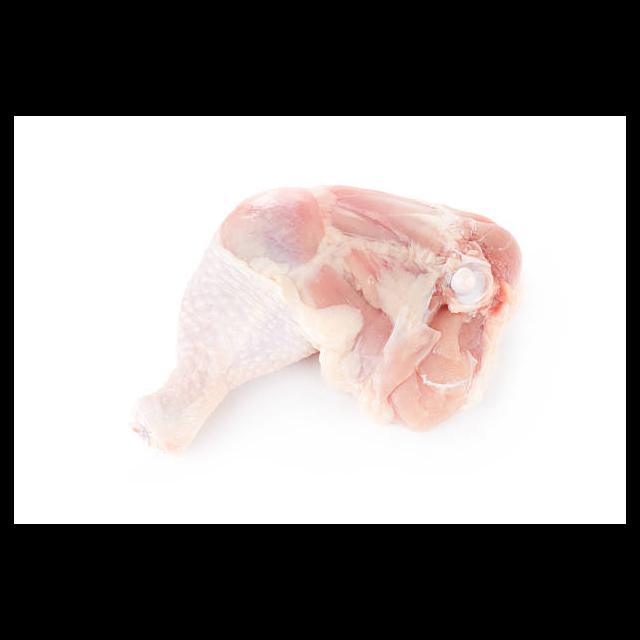chicken: (133, 183, 525, 451)
